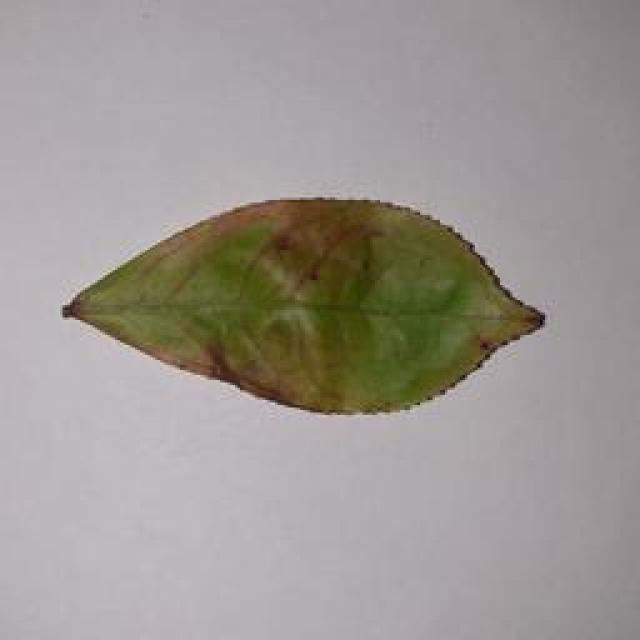Red Leaf Spot: (54, 194, 553, 434)
